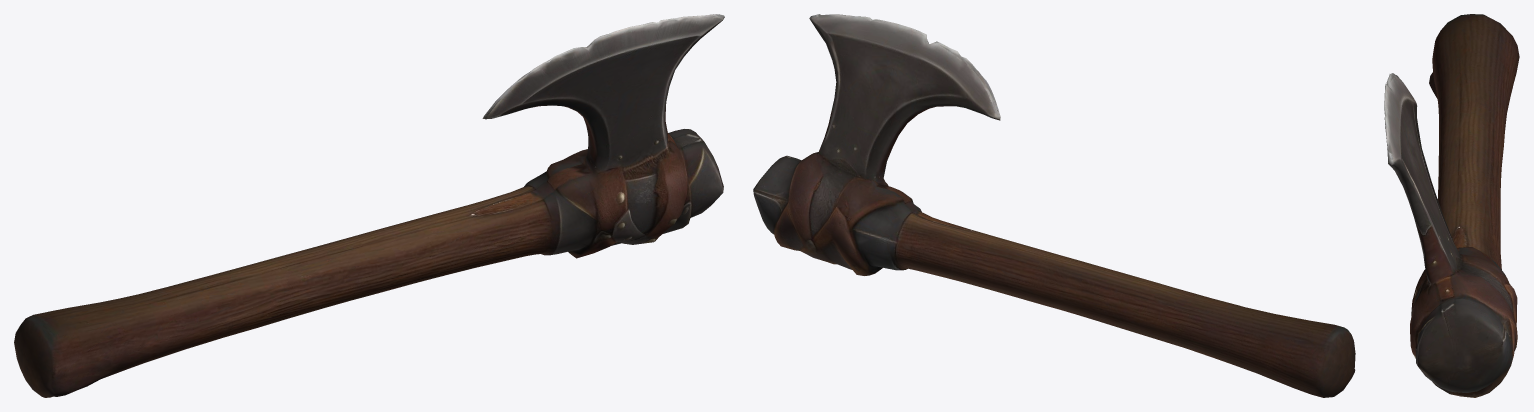
Rendered from iron_hatchet.glb.
3 renders of one model, left to right at view 1: azimuth 30°, elevation 25°; view 2: azimuth 150°, elevation 25°; view 3: azimuth 270°, elevation 25°, orthographic. The views are drawn at different scales.
Visible parts, largest first — view 1: Mesh_0.002; view 2: Mesh_0.002; view 3: Mesh_0.002.
Part boxes in pixels (<box>): Mesh_0.002: <box>14,14,724,397</box>; Mesh_0.002: <box>753,14,1355,397</box>; Mesh_0.002: <box>1384,14,1519,397</box>.
Size of the model in its own units: 0.7449 by 0.2811 by 0.1238.
1 material, 1 textured.
